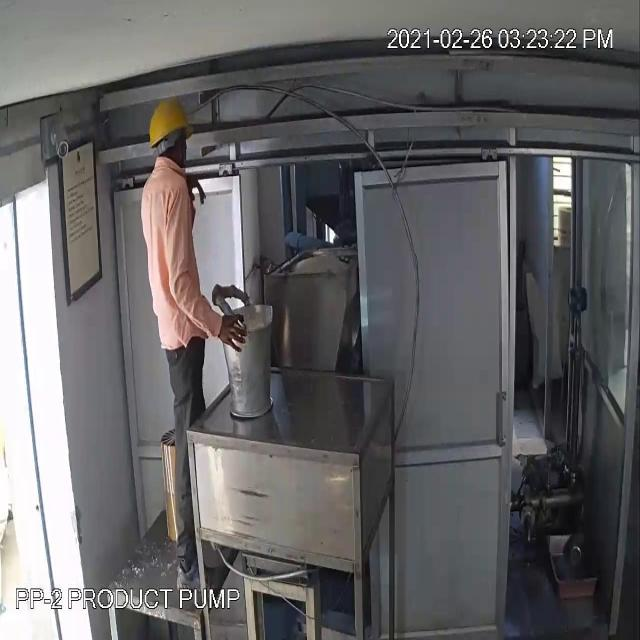helmet: (144, 94, 198, 154)
